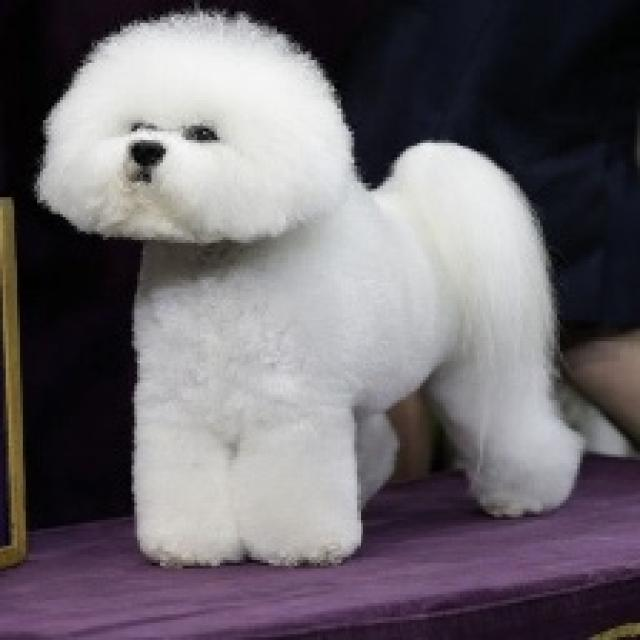cho khoe manh: (13, 6, 633, 555)
